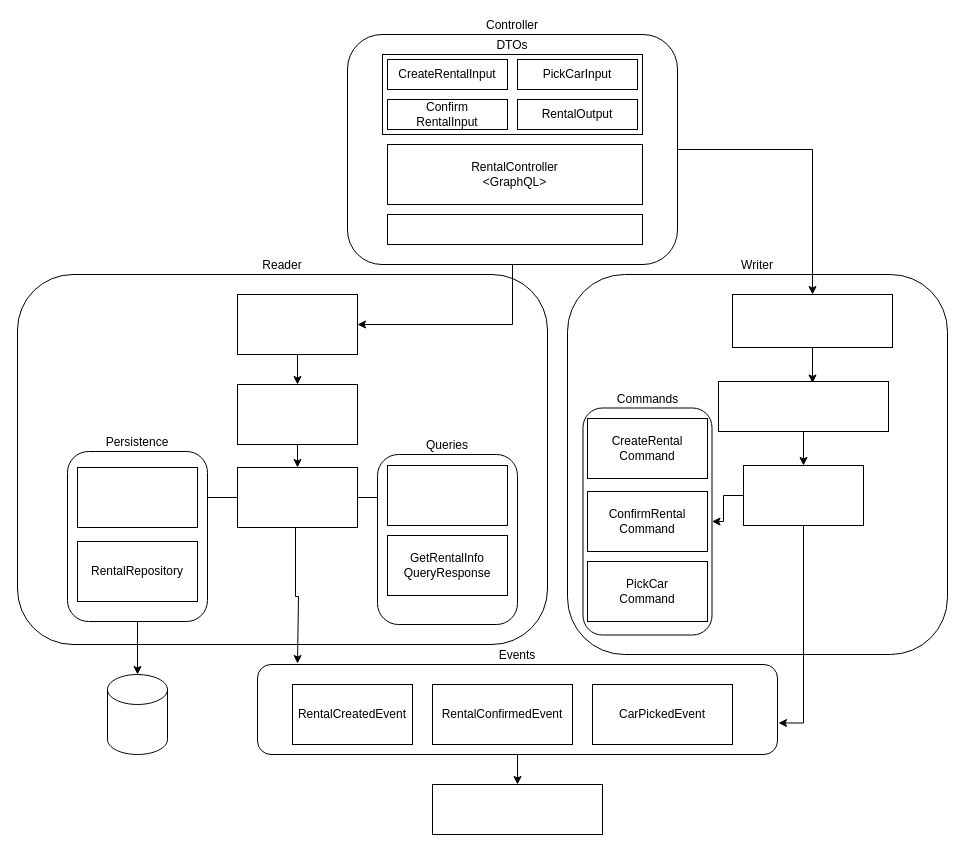
The diagram is 965 pixels wide and 852 high, and some of its shapes have lost their labels. Here are the shapes that lost their labels. From the top down, the centre of each, then its label:
the point at 514,229: RentalMapper
the point at 297,324: RentalQueryService
the point at 812,321: RentalCommandService
the point at 297,414: AxonQueryGateway
the point at 803,406: AxonCommandGateway
the point at 137,497: Rental
the point at 297,497: RentalEventHandler <Projector>
the point at 447,495: GetRentalInfoQuery
the point at 803,495: RentalAggregate <Aggregate>
the point at 517,809: AxonEventStore
